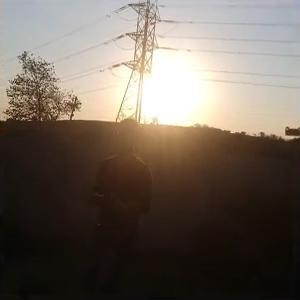follow: (83, 119, 155, 298)
